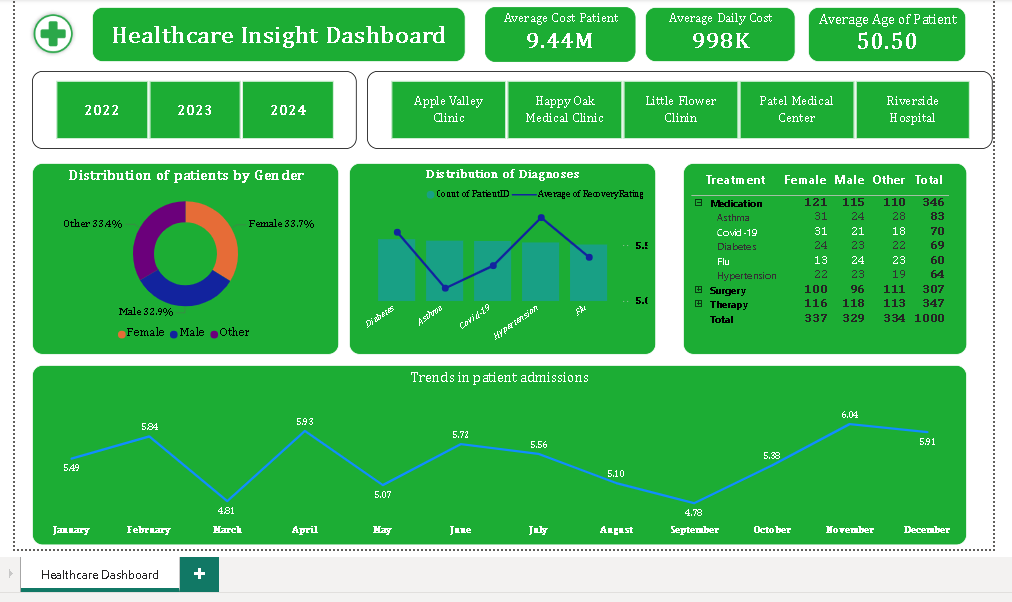

The page's visual inventory and layout, read from the dashboard file:
{"tool":"powerbi","page":{"name":"Healthcare Dashboard","canvas":[1280,720],"ordinal":0},"visuals":[{"type":"image","box":[10.5,3.9,78.5,82.5],"z":0},{"type":"textbox","box":[100.8,10.1,488.8,72.2],"z":1},{"type":"slicer","fields":{"Values":["Sheet1 (2).Hospital"]},"box":[460.8,93.6,819.4,102.2],"z":2},{"type":"card","title":"Average Cost Patient","fields":{"Values":["Sum(Sheet1.TotalBill)"]},"box":[614.9,10.1,197.3,72],"z":3},{"type":"card","title":"Average Daily Cost ","fields":{"Values":["Sum(Sheet1 (2).DailyCost)"]},"box":[825.1,10.1,197.3,72],"z":4},{"type":"card","title":"Average Age of Patient","fields":{"Values":["Avg(Sheet1.Age)"]},"box":[1038.2,10.1,207.4,72],"z":6},{"type":"slicer","fields":{"Values":["Sheet1.AdmissionDate.Variation.Date Hierarchy.Year"]},"box":[21.6,93.6,424.8,102.2],"z":7},{"type":"donutChart","title":"Distribution of patients by Gender","fields":{"Y":["CountNonNull(Sheet1.Age)"],"Series":["Sheet1.Gender"]},"box":[21.6,214.6,401.8,250.6],"z":8},{"type":"lineClusteredColumnComboChart","title":"Distribution of Diagnoses","fields":{"Category":["Sheet1.Diagnosis"],"Y":["CountNonNull(Sheet1.PatientID)"],"Y2":["Avg(Sheet1 (2).RecoveryRating)"]},"box":[437.8,214.6,401.8,250.6],"z":9},{"type":"pivotTable","fields":{"Rows":["Sheet1.Treatment","Sheet1.Diagnosis"],"Values":["CountNonNull(Sheet1.PatientID)"],"Columns":["Sheet1.Gender"]},"box":[874.1,214.6,371.5,250.6],"z":10},{"type":"lineChart","title":"Trends in patient admissions","fields":{"Y":["Avg(Sheet1 (2).RecoveryRating)"],"Category":["Sheet1.AdmissionDate.Variation.Date Hierarchy.Month"]},"box":[21.6,479.5,1224,236.2],"z":11}]}

Visuals, with their boxes in screenshot pixels (x1, y1, x2, y2):
image: 34, 3, 93, 65
textbox: 102, 8, 470, 62
slicer - Sheet1 (2).Hospital: 373, 70, 989, 147
"Average Cost Patient" card: 489, 8, 637, 62
"Average Daily Cost " card: 647, 8, 795, 62
"Average Age of Patient" card: 807, 8, 963, 62
slicer - Sheet1.AdmissionDate.Variation.Date Hierarchy.Year: 43, 70, 362, 147
"Distribution of patients by Gender" donutChart: 43, 161, 345, 350
"Distribution of Diagnoses" lineClusteredColumnComboChart: 356, 161, 658, 350
pivotTable - Sheet1.Treatment x Sheet1.Diagnosis: 684, 161, 963, 350
"Trends in patient admissions" lineChart: 43, 361, 963, 538
